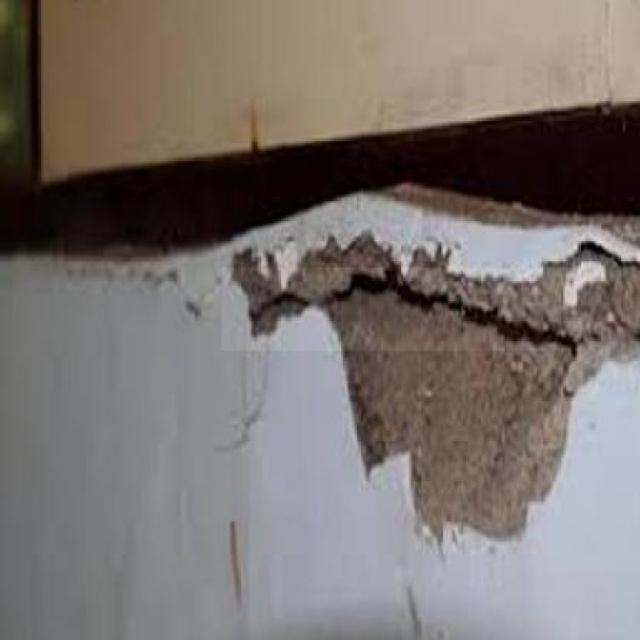Crack: (212, 242, 640, 373)
